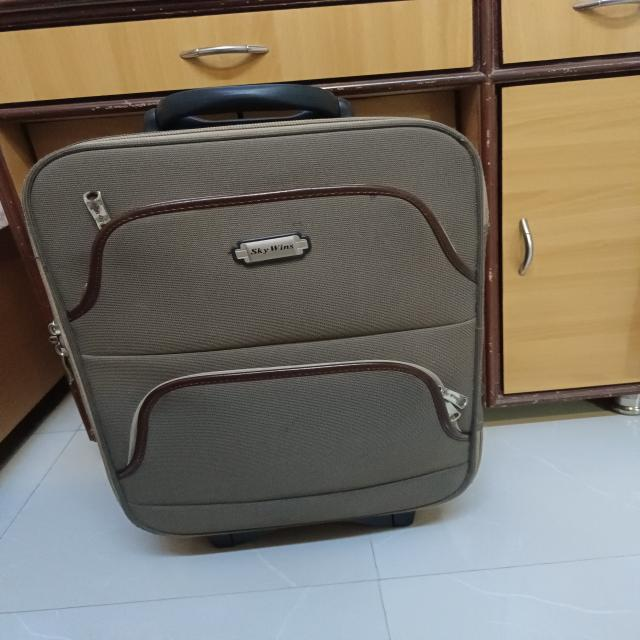suitcaserotation: (13, 77, 494, 554)
